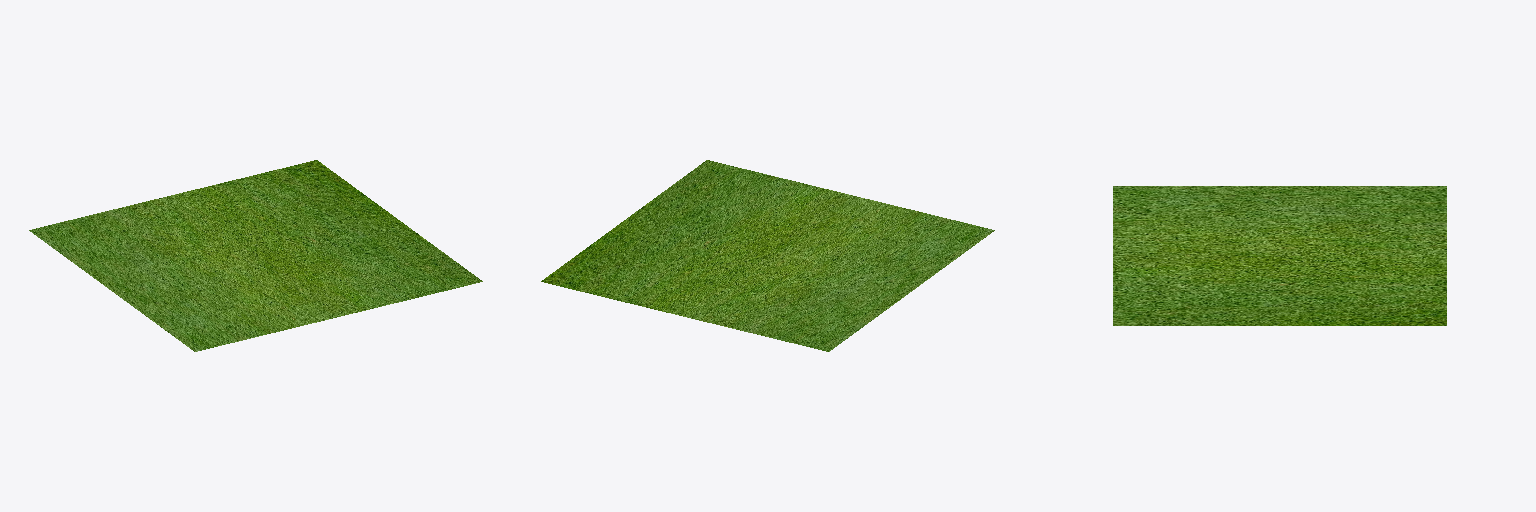
3 renders of one model, left to right at view 1: azimuth 30°, elevation 25°; view 2: azimuth 150°, elevation 25°; view 3: azimuth 270°, elevation 25°, orthographic.
Parts seen in each view (by area): view 1: pPlane1; view 2: pPlane1; view 3: pPlane1.
Part boxes in pixels (x1,y1,x2,y2): pPlane1: (29, 160, 482, 351); pPlane1: (541, 160, 994, 351); pPlane1: (1113, 186, 1446, 325).
Bounding box in the file's own units: 5000 × 0 × 5000.
1 materials, 1 textured.